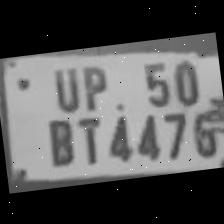0: (166, 54, 203, 104)
4: (99, 105, 136, 164), (125, 103, 162, 162)
5: (136, 55, 174, 106)
6: (183, 101, 223, 161)
7: (154, 104, 190, 162)
B: (41, 110, 77, 167)
P: (74, 58, 111, 110)
T: (70, 110, 106, 166)
U: (44, 59, 82, 112)
